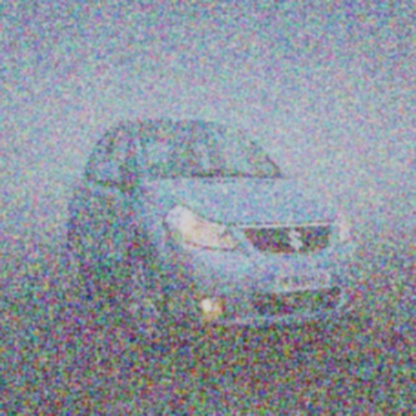Vehicle: (67, 119, 359, 345)
